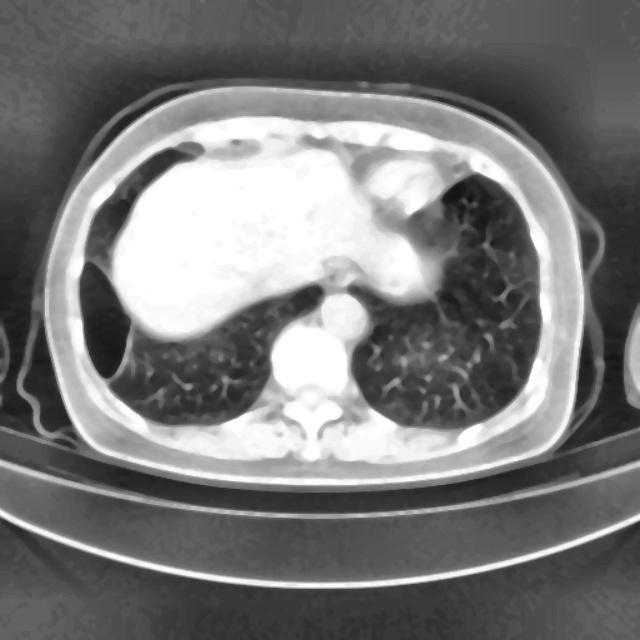covid: (40, 80, 601, 490)
